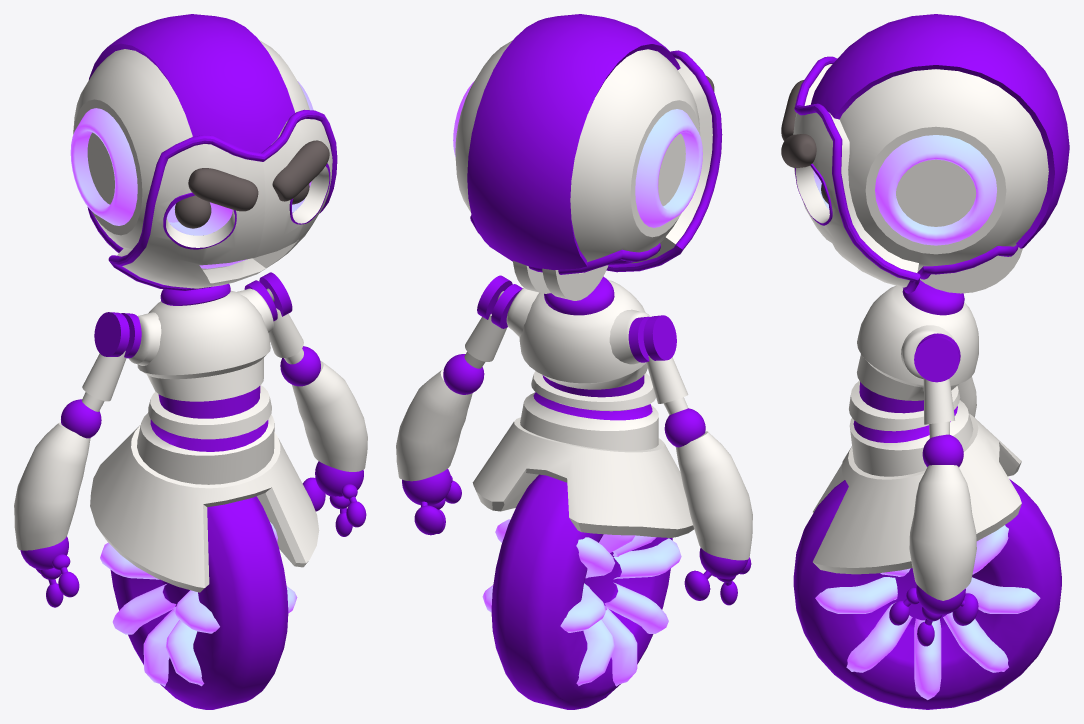
Rendered from EnemyPlasmaRegular.fbx.
The picture shows the model from 3 angles, left to right: view 1: azimuth 30°, elevation 25°; view 2: azimuth 150°, elevation 25°; view 3: azimuth 270°, elevation 25°; orthographic projection.
Parts seen in each view (by area): view 1: Torso, Wheel, Pants, Mask, HeadTop, MainHead, Forarm, Light, Ears, Hands, EyeBrow, Mask.002_Curve (+6 smaller); view 2: HeadTop, Wheel, MainHead, Torso, Pants, Forarm, Light, Ears, Hands, ShoulderRotation, Bicep, Mask.002_Curve (+6 smaller); view 3: MainHead, Wheel, HeadTop, Torso, Pants, Light, Forarm, Ears, Mask, Mask.002_Curve, Hands, HeadRotation (+7 smaller).
Boxes of the visible parts, x1=… form: Torso: x1=137, y1=290, x2=274, y2=484; Wheel: x1=110, y1=496, x2=288, y2=709; Pants: x1=90, y1=424, x2=319, y2=592; Mask: x1=117, y1=119, x2=332, y2=288; HeadTop: x1=89, y1=14, x2=294, y2=152; MainHead: x1=73, y1=40, x2=311, y2=270; Forarm: x1=14, y1=361, x2=367, y2=550; Light: x1=100, y1=522, x2=297, y2=686; Ears: x1=70, y1=81, x2=313, y2=225; Hands: x1=20, y1=461, x2=366, y2=607; EyeBrow: x1=188, y1=140, x2=329, y2=211; Mask.002_Curve: x1=108, y1=109, x2=337, y2=290; HeadTop: x1=467, y1=14, x2=680, y2=270; Wheel: x1=491, y1=474, x2=672, y2=709; MainHead: x1=455, y1=40, x2=700, y2=262; Torso: x1=519, y1=280, x2=658, y2=450; Pants: x1=472, y1=417, x2=694, y2=537; Forarm: x1=396, y1=369, x2=752, y2=560; Light: x1=482, y1=519, x2=681, y2=686; Ears: x1=453, y1=81, x2=702, y2=227; Hands: x1=402, y1=468, x2=751, y2=605; ShoulderRotation: x1=477, y1=275, x2=676, y2=362; Bicep: x1=464, y1=314, x2=688, y2=415; Mask.002_Curve: x1=606, y1=50, x2=722, y2=272; MainHead: x1=813, y1=69, x2=1048, y2=271; Wheel: x1=793, y1=479, x2=1061, y2=709; HeadTop: x1=811, y1=14, x2=1069, y2=248; Torso: x1=849, y1=285, x2=978, y2=476; Pants: x1=813, y1=413, x2=1021, y2=574; Light: x1=815, y1=525, x2=1040, y2=699; Forarm: x1=909, y1=376, x2=976, y2=600; Ears: x1=875, y1=135, x2=996, y2=245; Mask: x1=793, y1=64, x2=918, y2=287; Mask.002_Curve: x1=794, y1=56, x2=920, y2=293; Hands: x1=889, y1=585, x2=978, y2=646; HeadRotation: x1=920, y1=247, x2=1022, y2=293.
Size of the model in its own units: 17.33 by 31.84 by 12.31.
